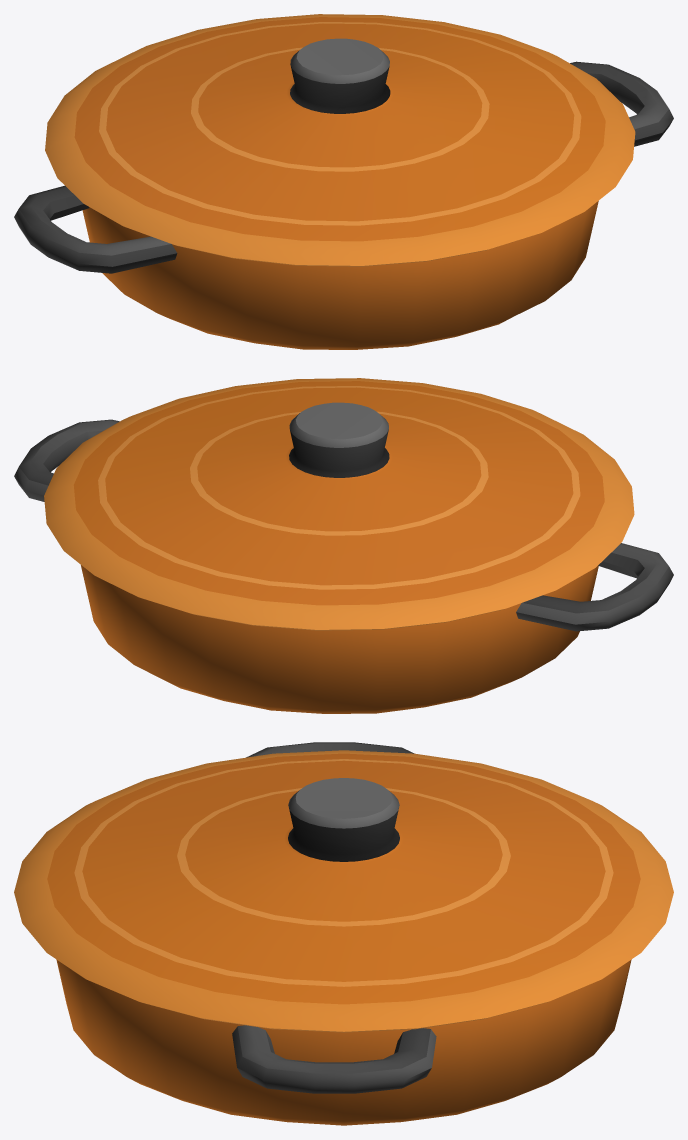
The model's file is Pan_13.fbx.
3 renders of one model, top to bottom at view 1: azimuth 30°, elevation 25°; view 2: azimuth 150°, elevation 25°; view 3: azimuth 270°, elevation 25°, orthographic. The views are drawn at different scales.
Parts seen in each view (by area): view 1: Pan_13 Top, Pan_13; view 2: Pan_13 Top, Pan_13; view 3: Pan_13 Top, Pan_13.
Part boxes in pixels (box(x1,y1,x2,y2)): Pan_13 Top: box(45, 14, 635, 266); Pan_13: box(14, 61, 673, 349); Pan_13 Top: box(44, 378, 634, 630); Pan_13: box(14, 419, 673, 713); Pan_13 Top: box(14, 750, 673, 1032); Pan_13: box(56, 742, 631, 1125).
Size of the model in its own units: 0.3434 by 0.1038 by 0.2855.
